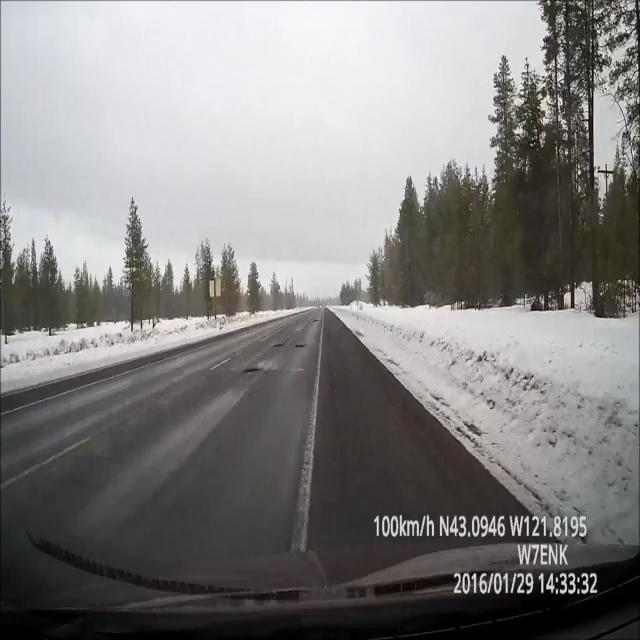Pothole: (266, 338, 312, 355), (239, 362, 261, 381)
